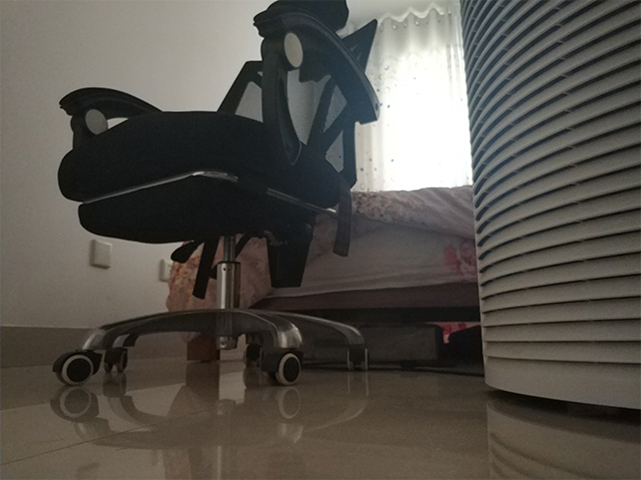bed: (165, 182, 481, 363)
stool: (50, 1, 385, 388)
